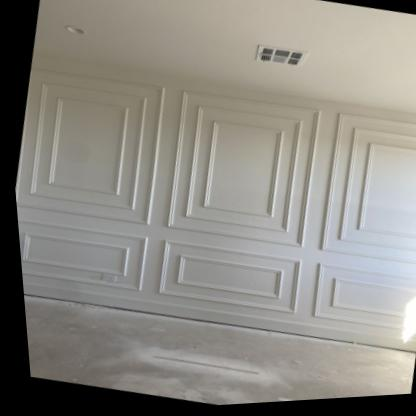Futec frame: (130, 80, 337, 330), (4, 52, 181, 303), (287, 106, 416, 347)
